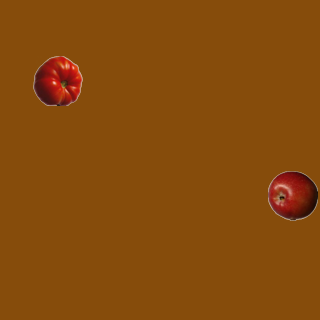Apple Braeburn: (267, 170, 317, 220)
Tomato 3: (32, 55, 82, 105)
